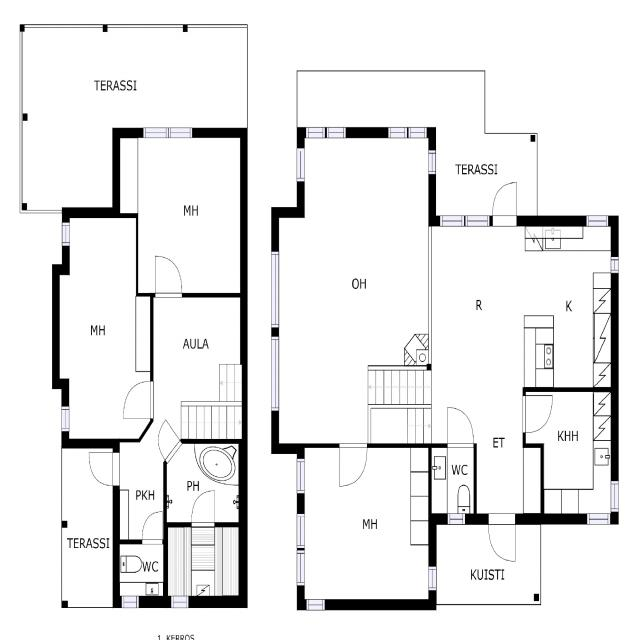door: (259, 163, 291, 218), (151, 420, 182, 464), (488, 514, 515, 562), (270, 459, 304, 497), (339, 444, 366, 486), (124, 381, 154, 418), (155, 256, 182, 297), (523, 395, 552, 433), (447, 407, 474, 447), (492, 182, 516, 226), (89, 452, 120, 486), (192, 490, 214, 527), (142, 512, 162, 544)
